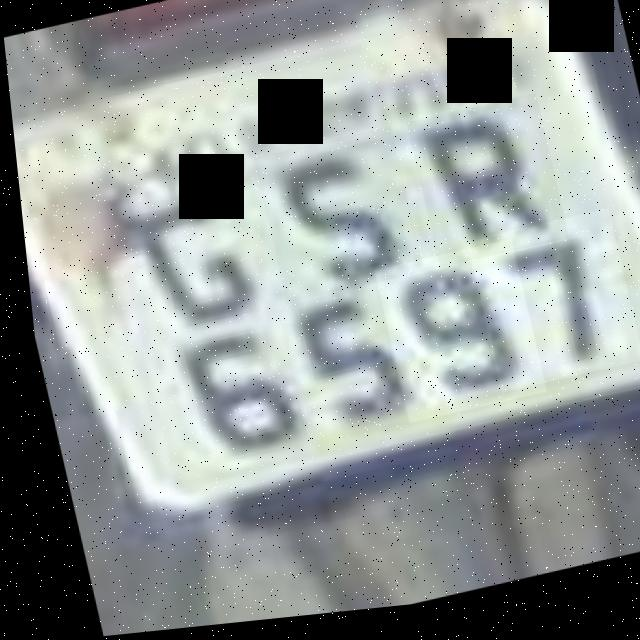5: (252, 272, 420, 455)
6: (135, 294, 316, 492)
7: (458, 219, 635, 404)
9: (366, 247, 538, 432)
R: (401, 103, 564, 278)
S: (248, 132, 419, 309)
